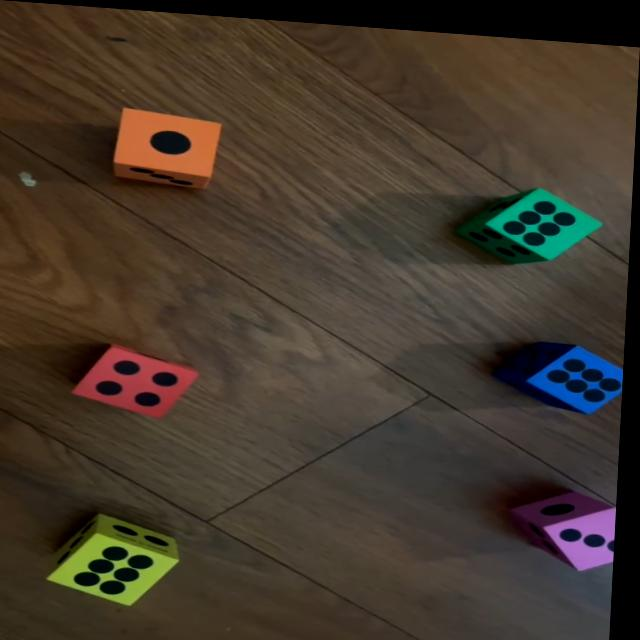blue_block: (500, 332, 628, 407)
red_block: (78, 338, 200, 417)
